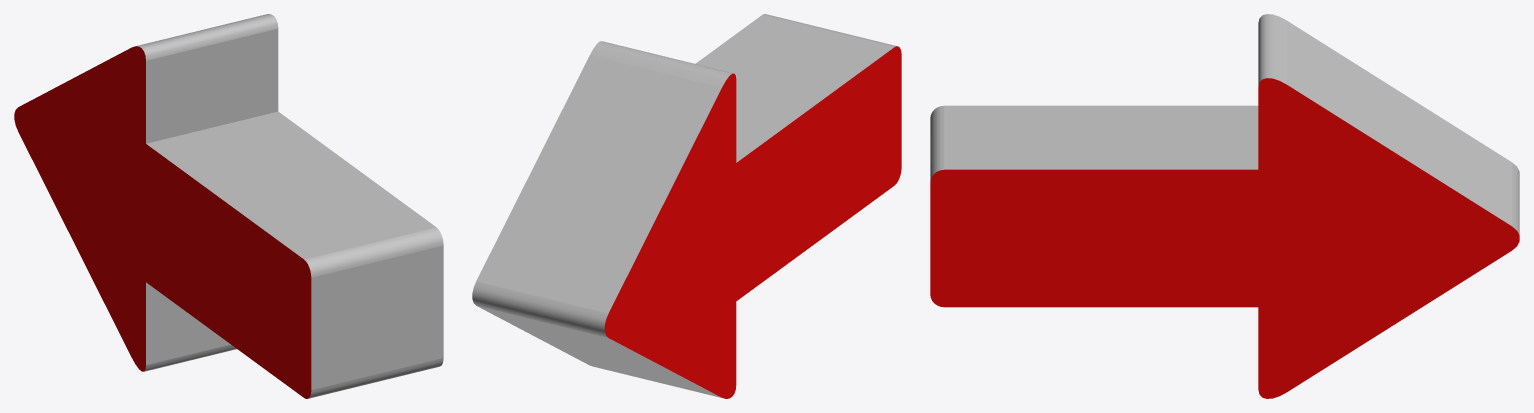
Rendered from ArrowIndicator_A.fbx.
3 views of the same model, side by side, from view 1: azimuth 30°, elevation 25°; view 2: azimuth 150°, elevation 25°; view 3: azimuth 270°, elevation 25° (orthographic).
Parts seen in each view (by area): view 1: Cube; view 2: Cube; view 3: Cube.
Boxes of the visible parts, bbox=[...] form: Cube: bbox=[14, 14, 443, 398]; Cube: bbox=[472, 14, 901, 398]; Cube: bbox=[930, 14, 1519, 398].
Bounding box in the file's own units: 200 × 467 × 777.
